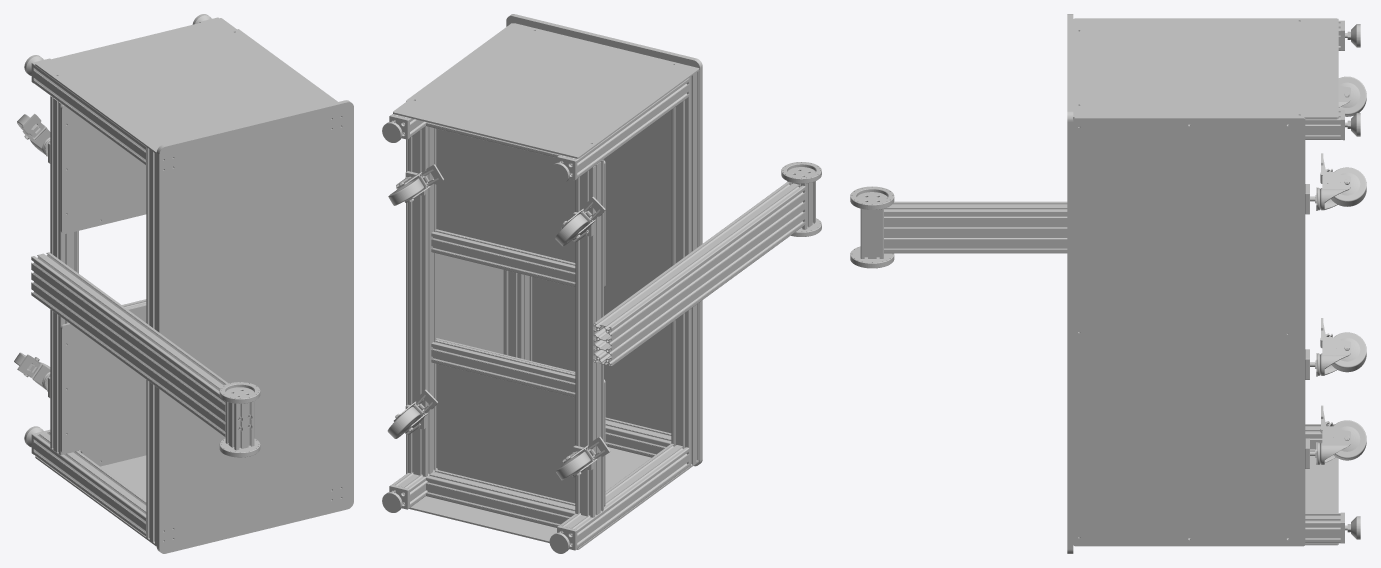
File: workstation_table_vis.obj
3 views of the same model, side by side, from view 1: azimuth 30°, elevation 25°; view 2: azimuth 150°, elevation 25°; view 3: azimuth 270°, elevation 25° (orthographic). The views are drawn at different scales.
Visible parts, largest first — view 1: workstation_table; view 2: workstation_table; view 3: workstation_table.
Boxes of the visible parts, left/top/right/bottom form: workstation_table: left=14, top=14, right=353, bottom=553; workstation_table: left=382, top=14, right=821, bottom=553; workstation_table: left=850, top=14, right=1366, bottom=553.
Size of the model in its own units: 0.7115 by 1.25 by 1.32.
1 material, 1 textured.
